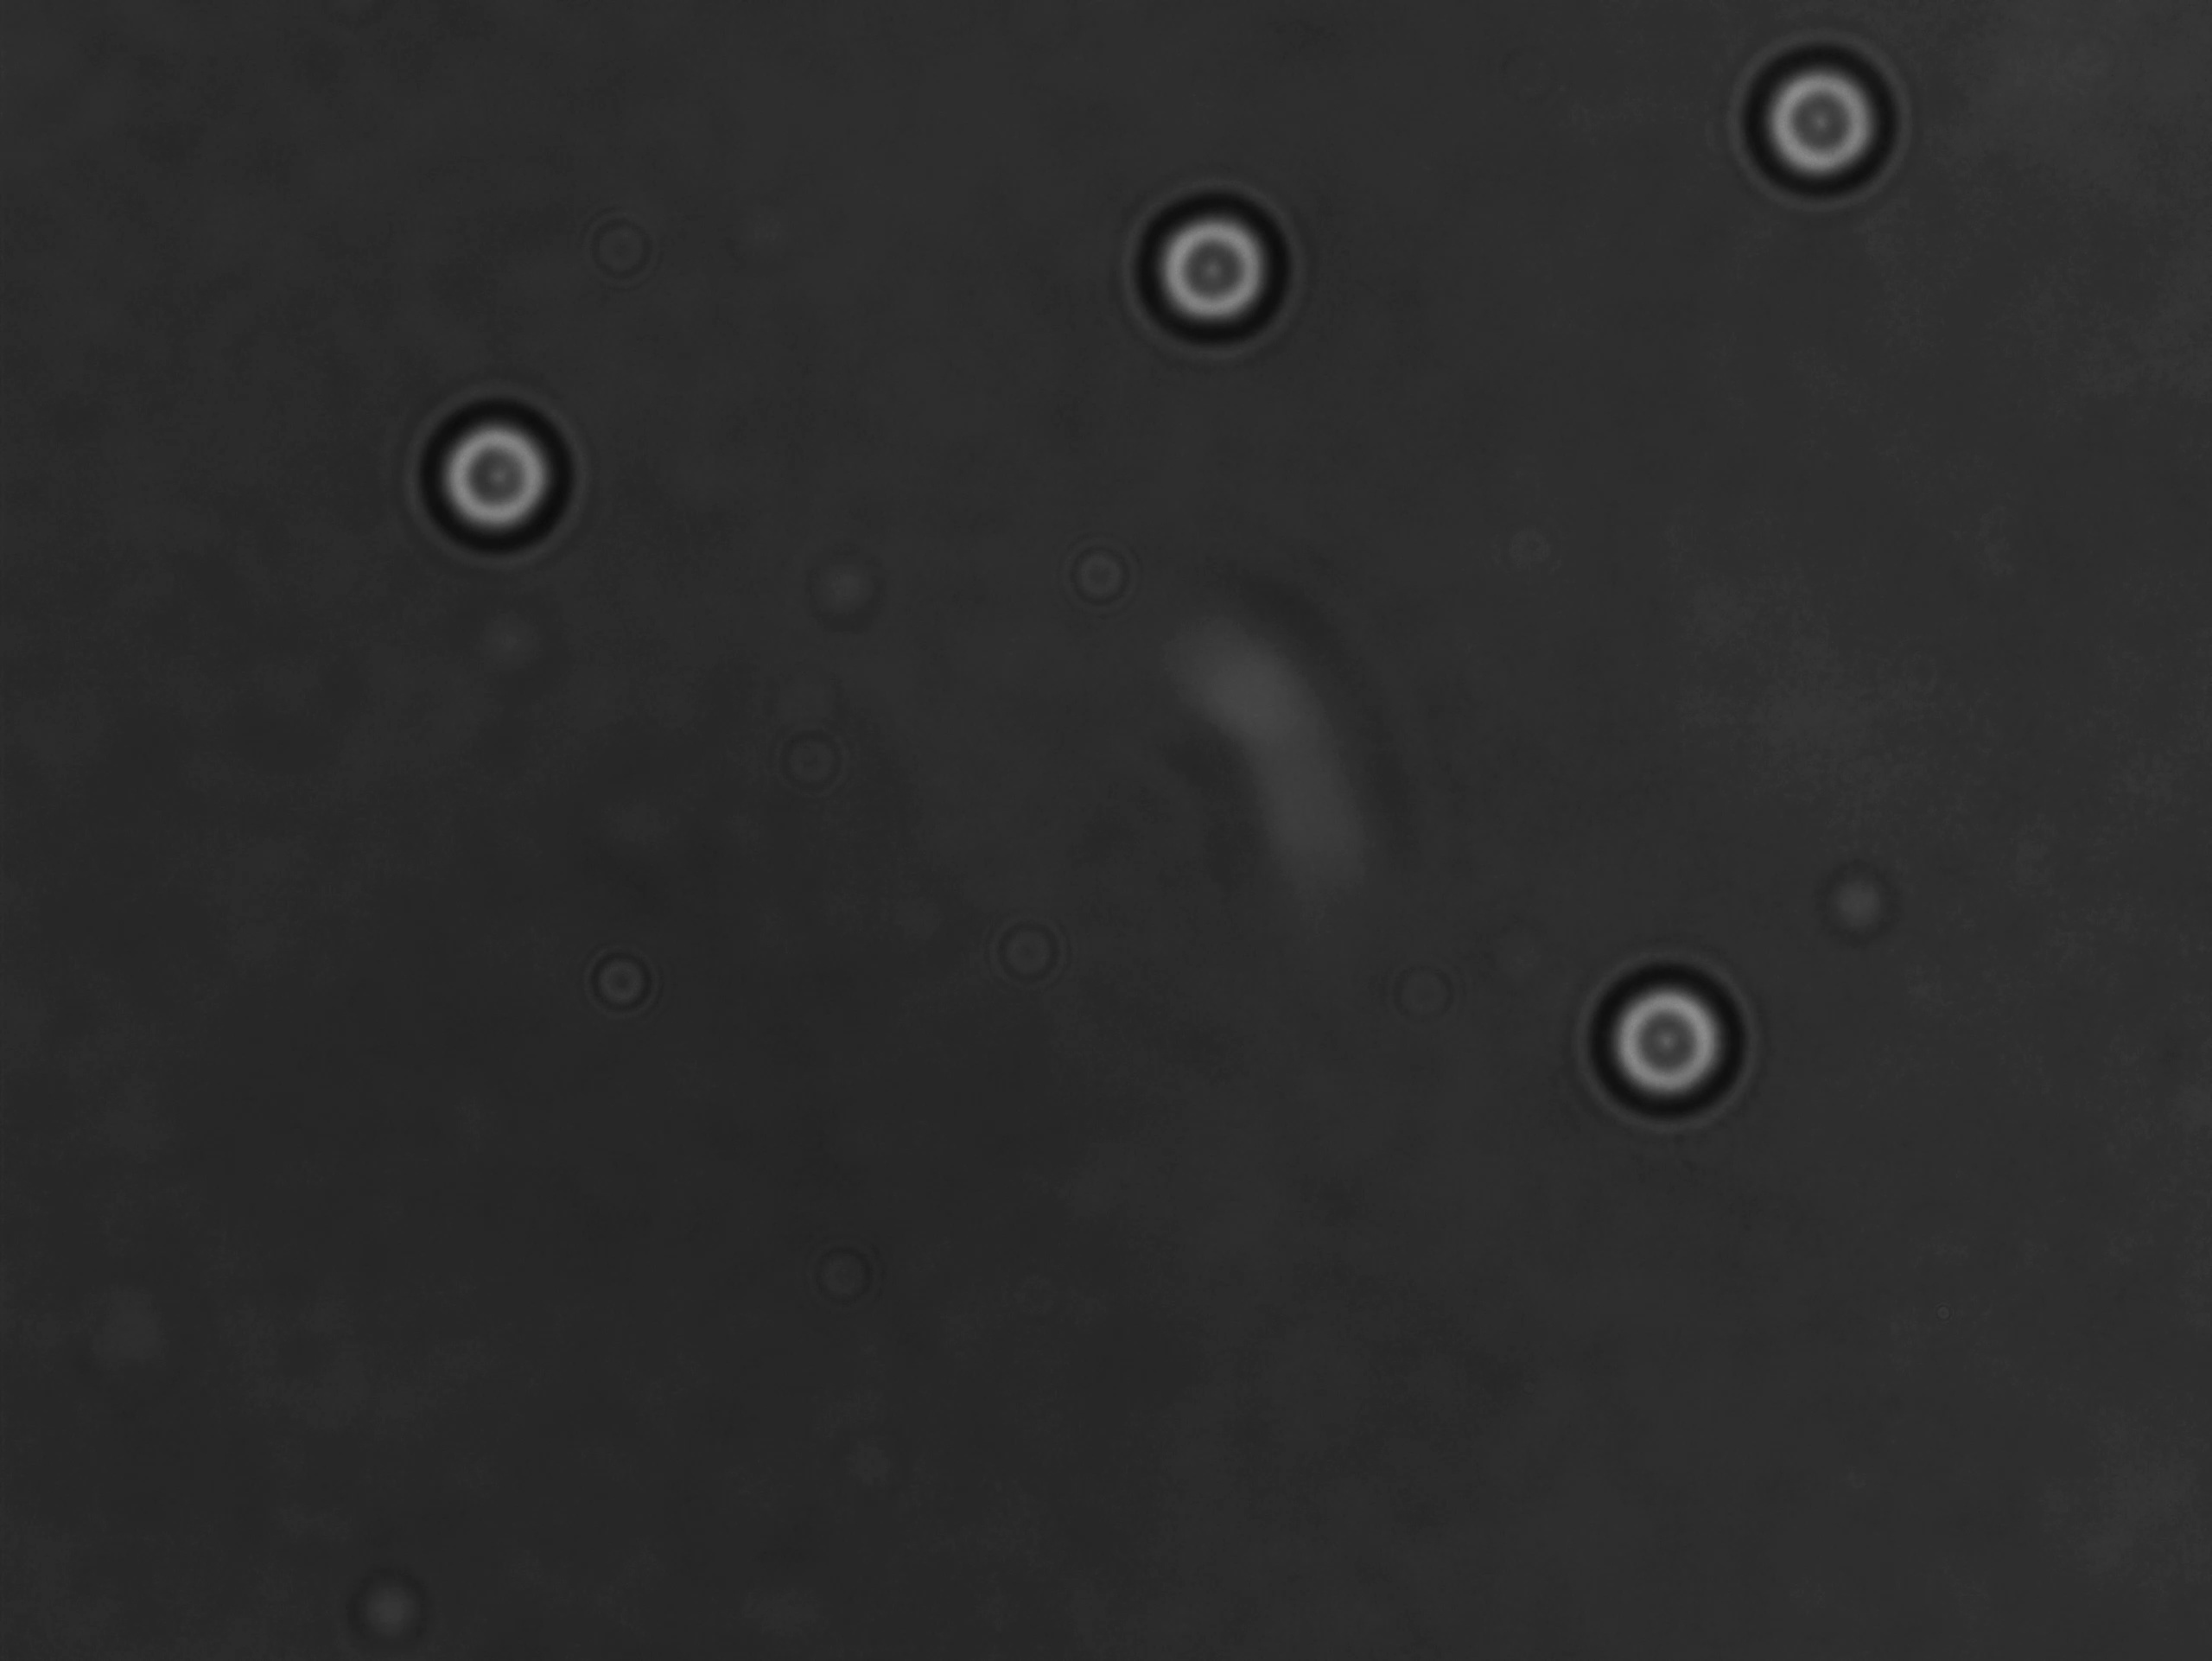depth:20: (1574, 951, 1776, 1143), (1727, 24, 1919, 211), (410, 377, 572, 553), (1139, 206, 1287, 356)
